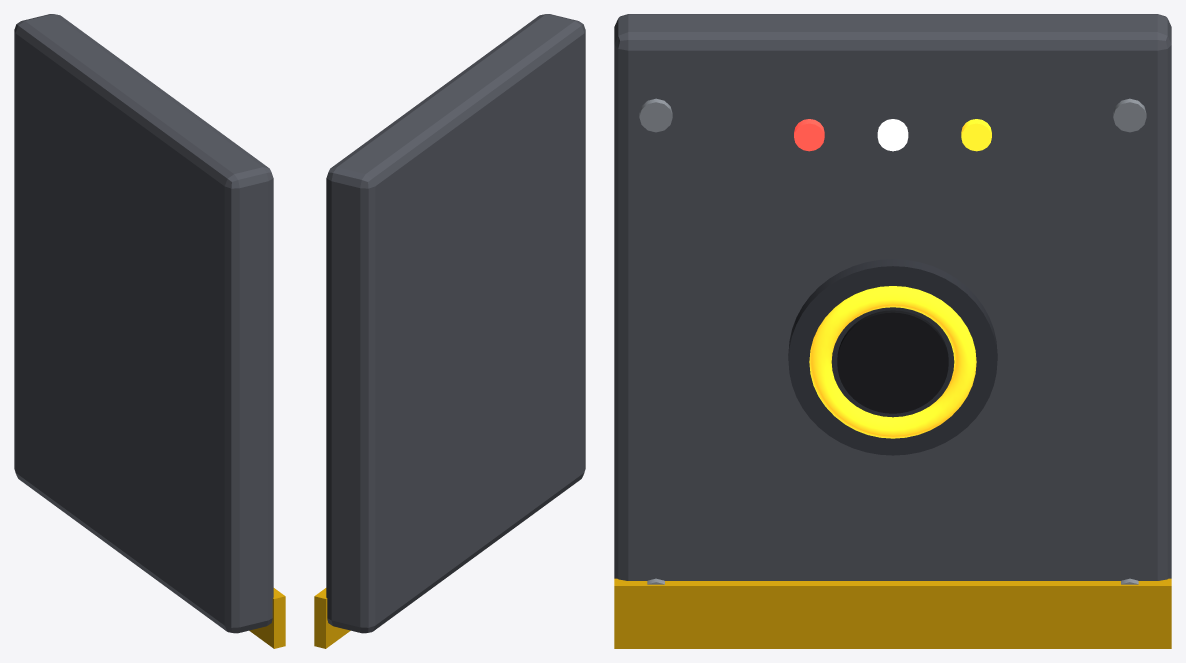
Rendered from wall_socket.glb.
3 renders of one model, left to right at view 1: azimuth 30°, elevation 25°; view 2: azimuth 150°, elevation 25°; view 3: azimuth 270°, elevation 25°, orthographic. The views are drawn at different scales.
Visible parts, largest first — view 1: box, box.001; view 2: box, box.001; view 3: box, box.001, cyl.009, ring.008, cyl.010, cyl.016, cyl.017, cyl.012, cyl.011, cyl.013.
Part boxes in pixels (left/top/right/bottom): box: left=14, top=14, right=273, bottom=633; box.001: left=249, top=588, right=285, bottom=648; box: left=326, top=14, right=585, bottom=633; box.001: left=314, top=588, right=350, bottom=648; box: left=614, top=14, right=1171, bottom=580; box.001: left=614, top=578, right=1171, bottom=648; cyl.009: left=788, top=259, right=997, bottom=455; ring.008: left=809, top=286, right=976, bottom=438; cyl.010: left=837, top=310, right=948, bottom=413; cyl.016: left=639, top=98, right=672, bottom=132; cyl.017: left=1113, top=98, right=1146, bottom=132; cyl.012: left=877, top=119, right=908, bottom=151; cyl.011: left=794, top=119, right=824, bottom=151; cyl.013: left=961, top=119, right=991, bottom=151.
Bounding box in the file's own units: 0.0716 × 0.48 × 0.4.
